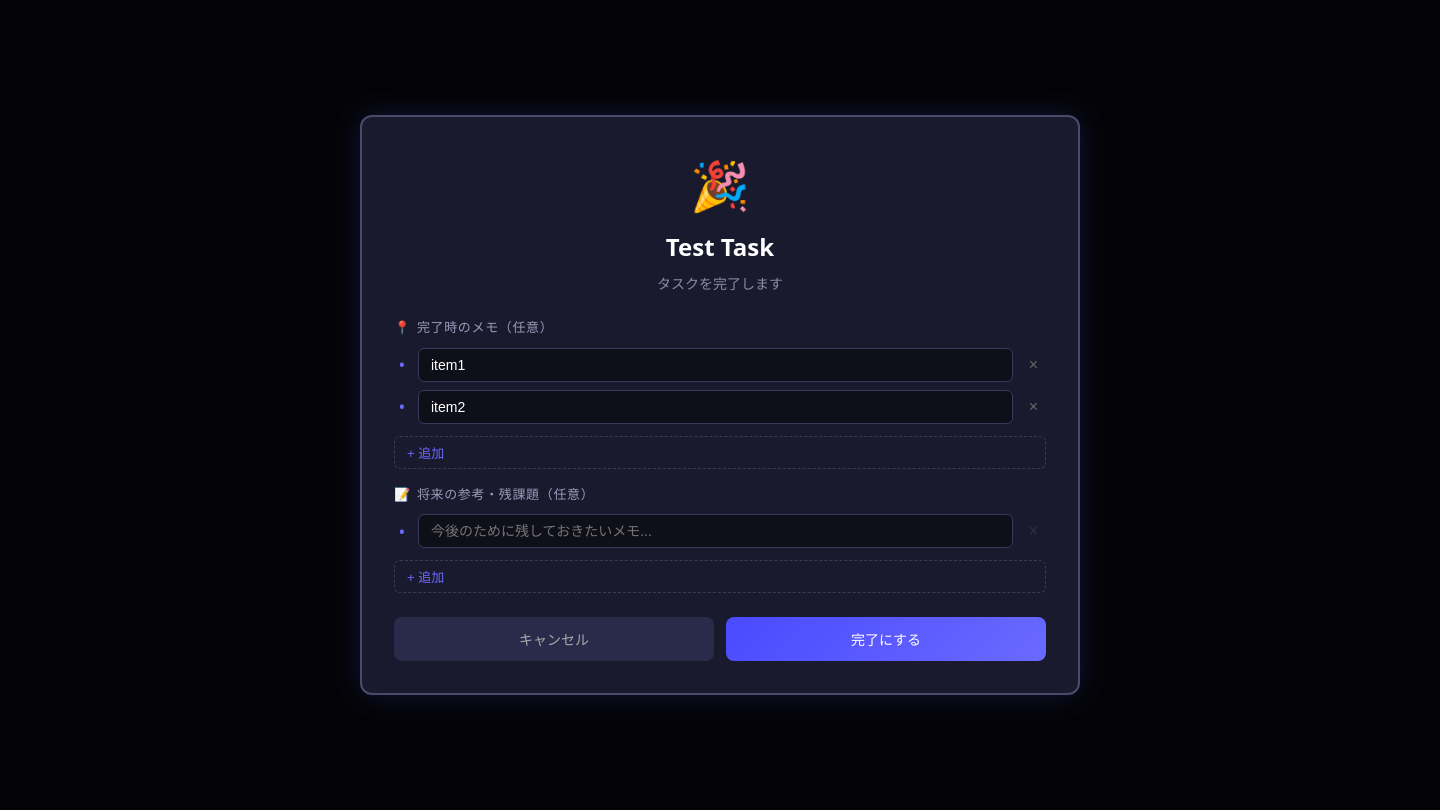
CompleteModal › removes a list item when × button is clicked
The image size is (1440, 810).
expect the number of fields with placeholder "完了時の状況や成果を記録..." is 2: met, box [418,348,1013,382]; [418,390,1013,424]
Click the 1st button "×" at (1033, 364), box [1021,352,1046,378]
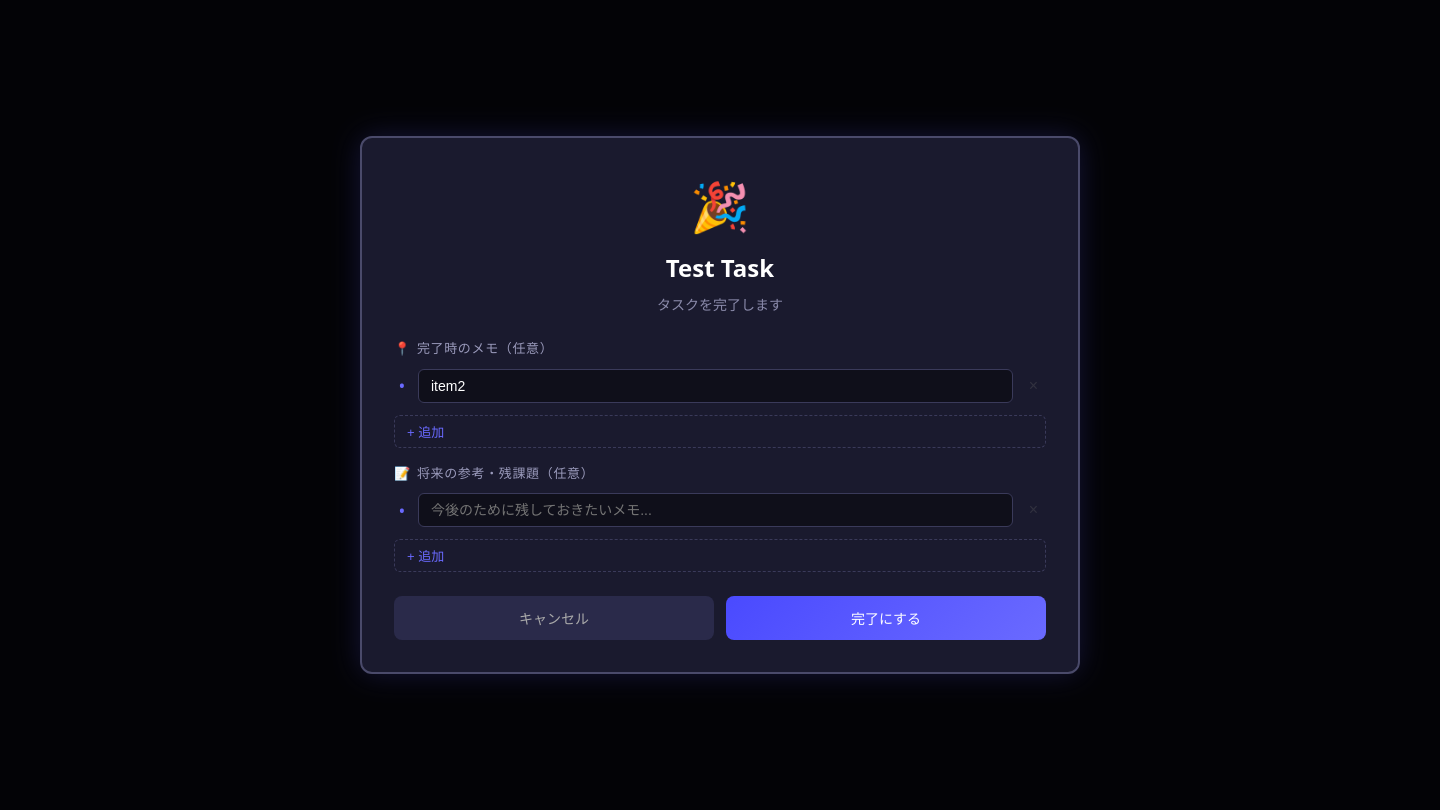
expect the number of fields with placeholder "完了時の状況や成果を記録..." is 1: met, box [418,368,1013,402]
